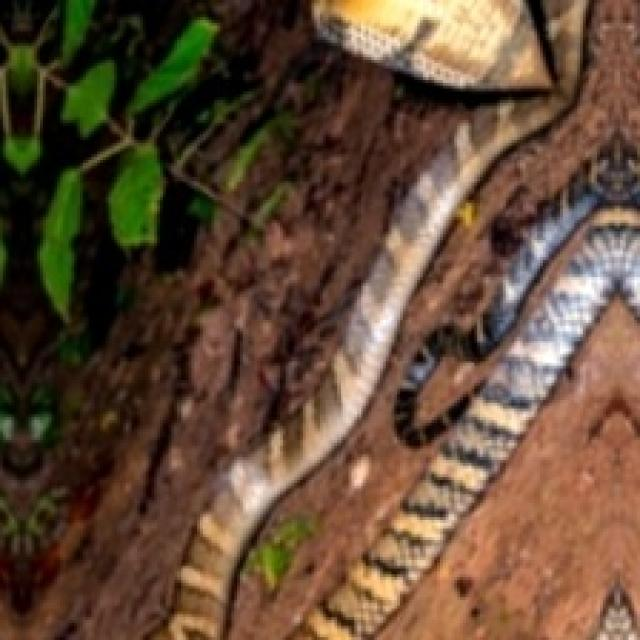king cobra: (209, 0, 637, 637), (377, 297, 637, 637)
